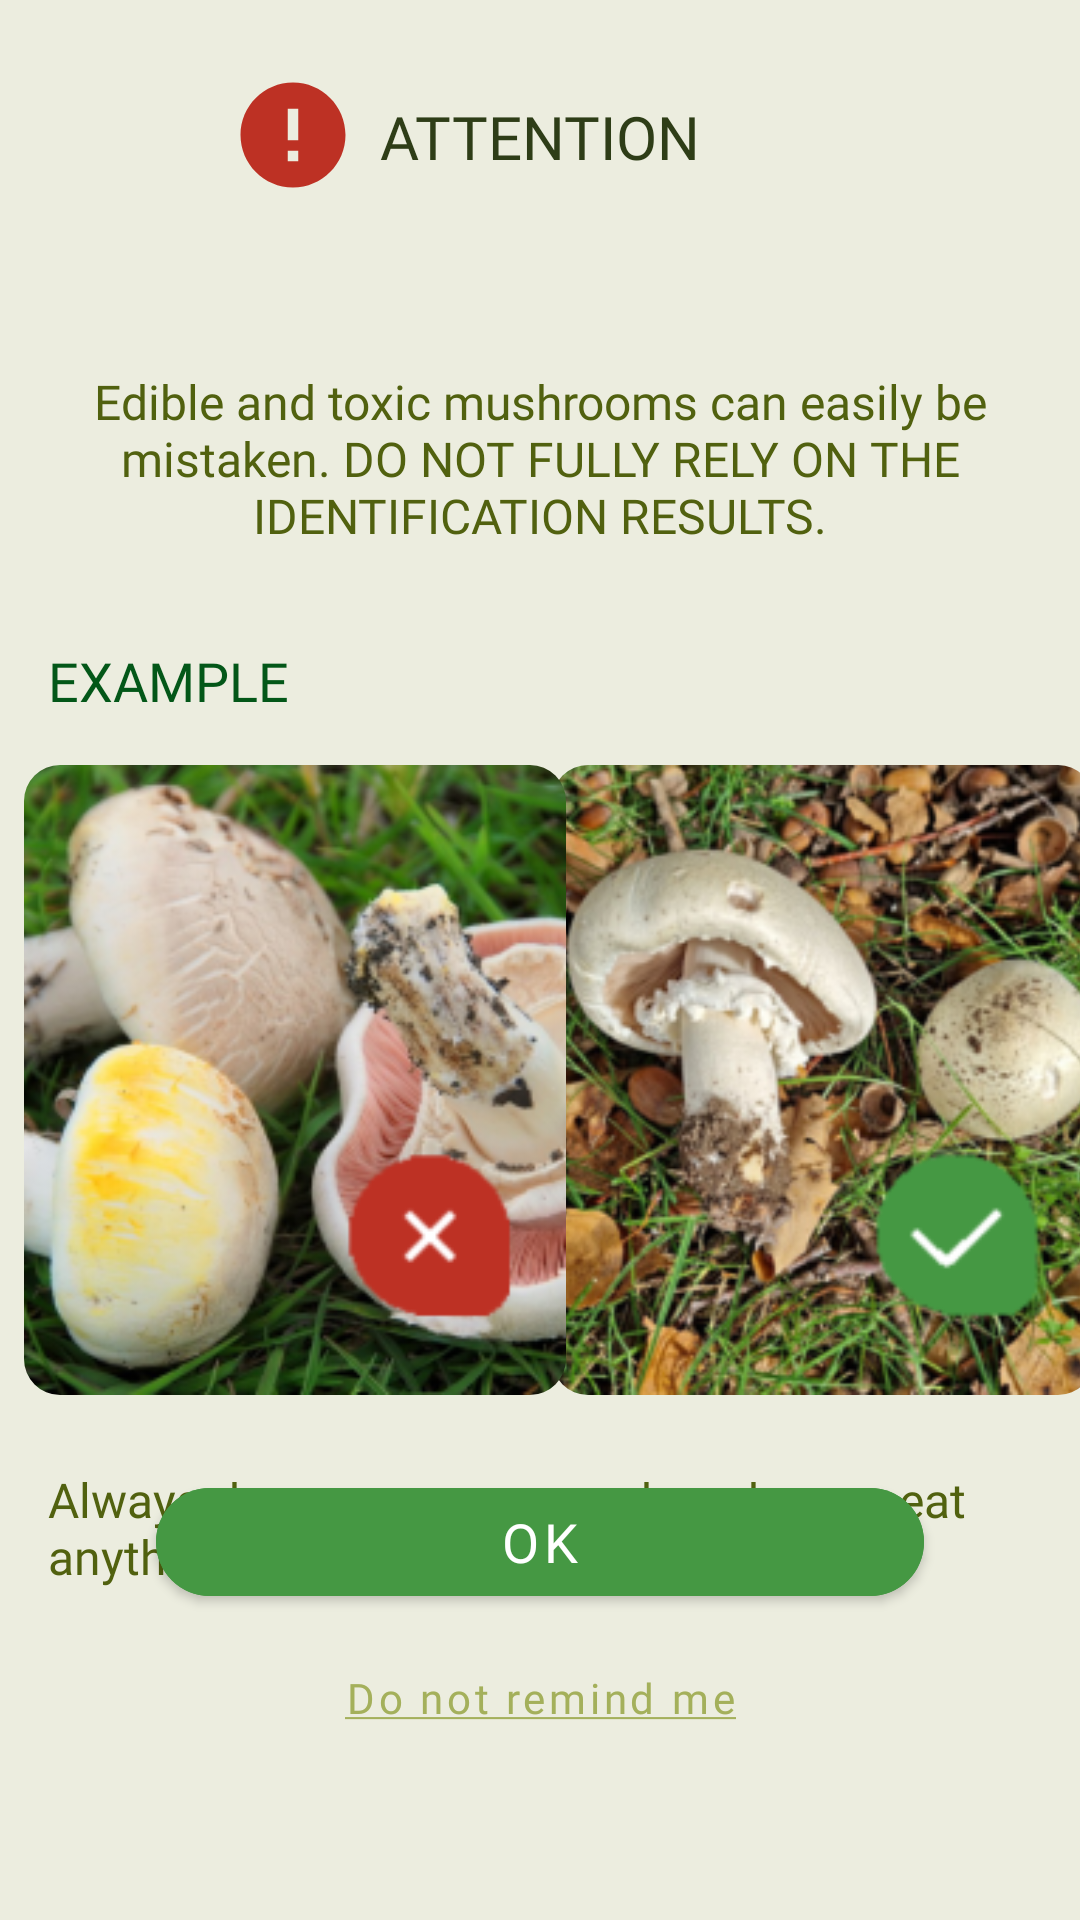

Locate icon controls on the screen. Image size 1080 × 1920, boxes as (x1, y1, x2, y2).
error: (240, 82, 346, 188)
